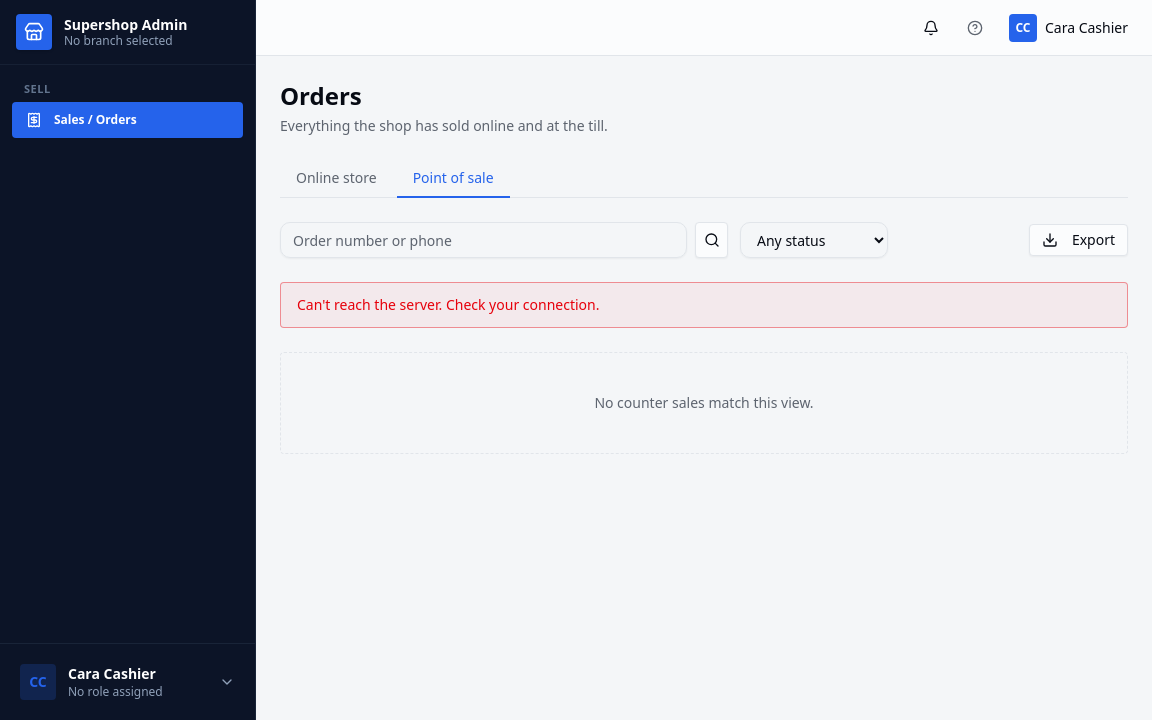
Scenario: route guards › sign out clears the session and returns to a plain login (regression: no `next` leak)
Click the button "CC Cara Cashier".
click(1068, 28)  # box [1001, 10, 1136, 46]
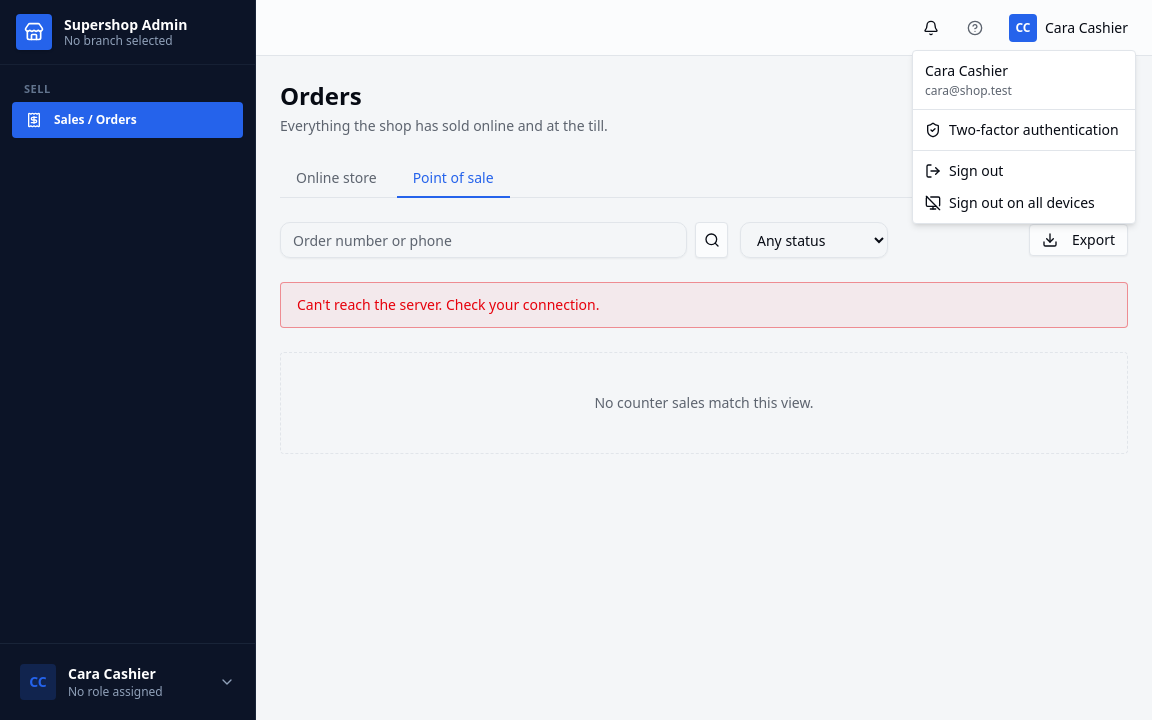
Click the menu item "Sign out".
click(964, 170)  # box [925, 161, 1003, 180]
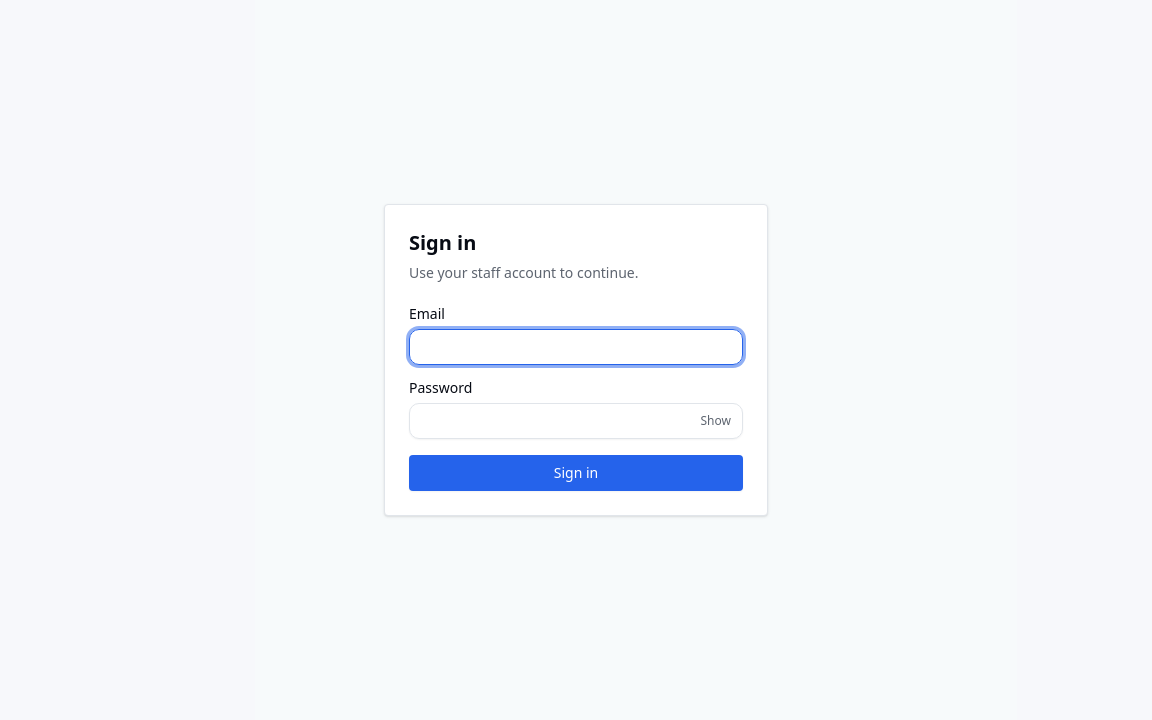
expect the heading "Sign in" is shown: met, box [409, 229, 476, 256]
